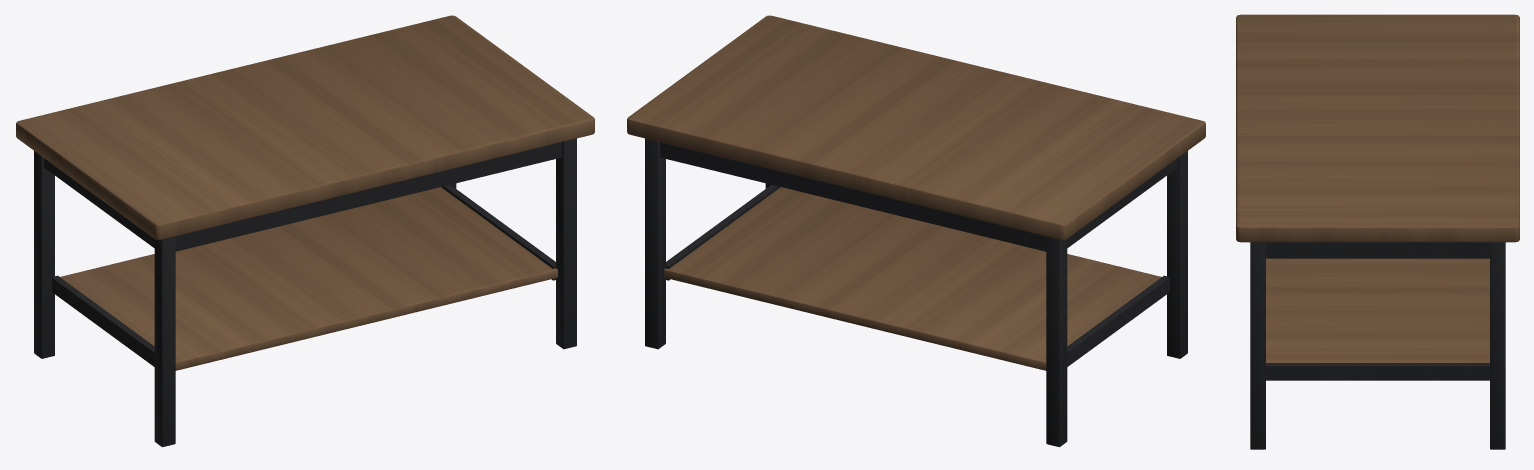
The model's file is apparel_table.glb.
3 renders of one model, left to right at view 1: azimuth 30°, elevation 25°; view 2: azimuth 150°, elevation 25°; view 3: azimuth 270°, elevation 25°, orthographic.
Parts seen in each view (by area): view 1: Top, Lower_Shelf, Apron_F, Leg_01, Leg_02, Leg_04, Shelf_Rail_L, Apron_L, Shelf_Rail_R; view 2: Top, Lower_Shelf, Apron_B, Leg_04, Leg_03, Leg_01, Shelf_Rail_L, Apron_L, Shelf_Rail_R; view 3: Top, Lower_Shelf, Shelf_Rail_R, Apron_R, Leg_02, Leg_03.
Boxes of the visible parts, x1,y1,x2,y2 form: Top: (16, 15, 594, 240); Lower_Shelf: (60, 187, 557, 370); Apron_F: (175, 142, 561, 251); Leg_01: (154, 236, 175, 447); Leg_02: (556, 138, 576, 349); Leg_04: (34, 151, 54, 358); Shelf_Rail_L: (52, 275, 154, 366); Apron_L: (44, 158, 154, 247); Shelf_Rail_R: (441, 184, 556, 280); Top: (627, 15, 1205, 240); Lower_Shelf: (664, 187, 1161, 370); Apron_B: (660, 142, 1046, 251); Leg_04: (1046, 236, 1067, 447); Leg_03: (645, 138, 665, 349); Leg_01: (1167, 151, 1187, 358); Shelf_Rail_L: (1067, 275, 1169, 366); Apron_L: (1067, 158, 1177, 247); Shelf_Rail_R: (665, 184, 780, 280); Top: (1236, 14, 1519, 242); Lower_Shelf: (1266, 258, 1489, 362); Shelf_Rail_R: (1266, 363, 1489, 380); Apron_R: (1266, 242, 1489, 258); Leg_02: (1250, 242, 1265, 449); Leg_03: (1490, 242, 1505, 449).
Bounding box in the file's own units: 1.6 × 0.8 × 0.9.
4 materials, 3 textured.
